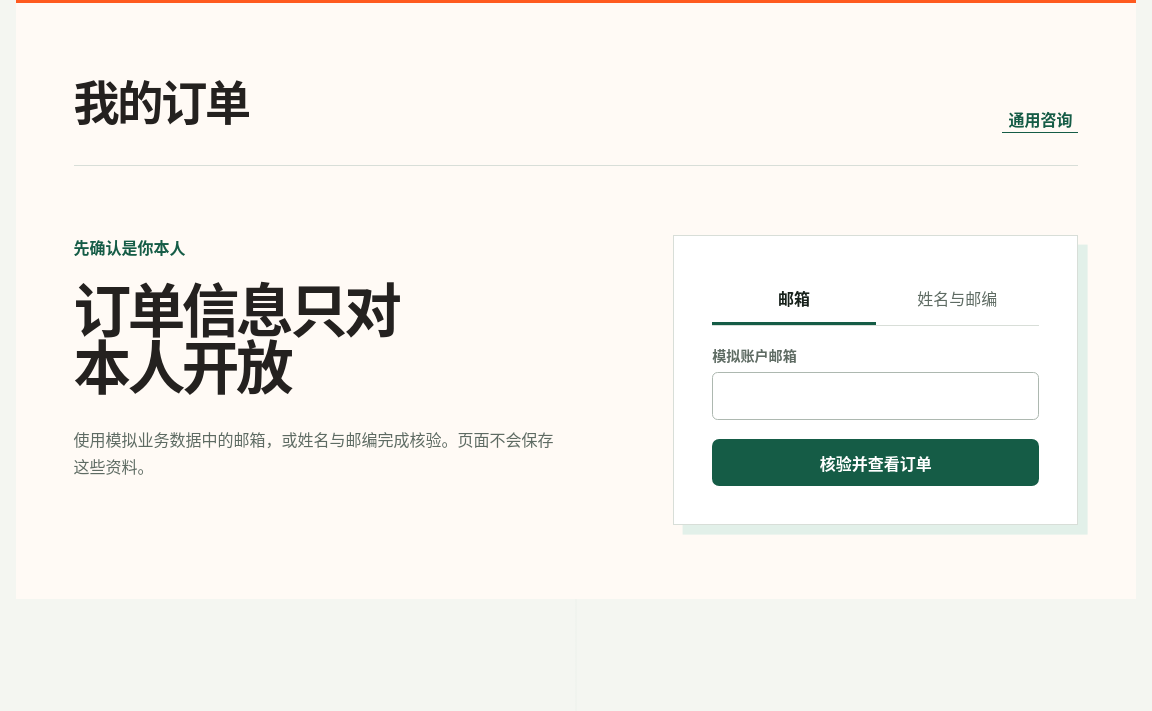
SupportPage conversation and confirmation › renders the server safety response without presenting a write as successful
(page scrolled)
Expected: the heading "订单信息只对本人开放" is shown, [74, 279, 413, 394]
Type "customer@example.invalid" into the field labelled "模拟账户邮箱" at (876, 396), box [712, 372, 1039, 420]
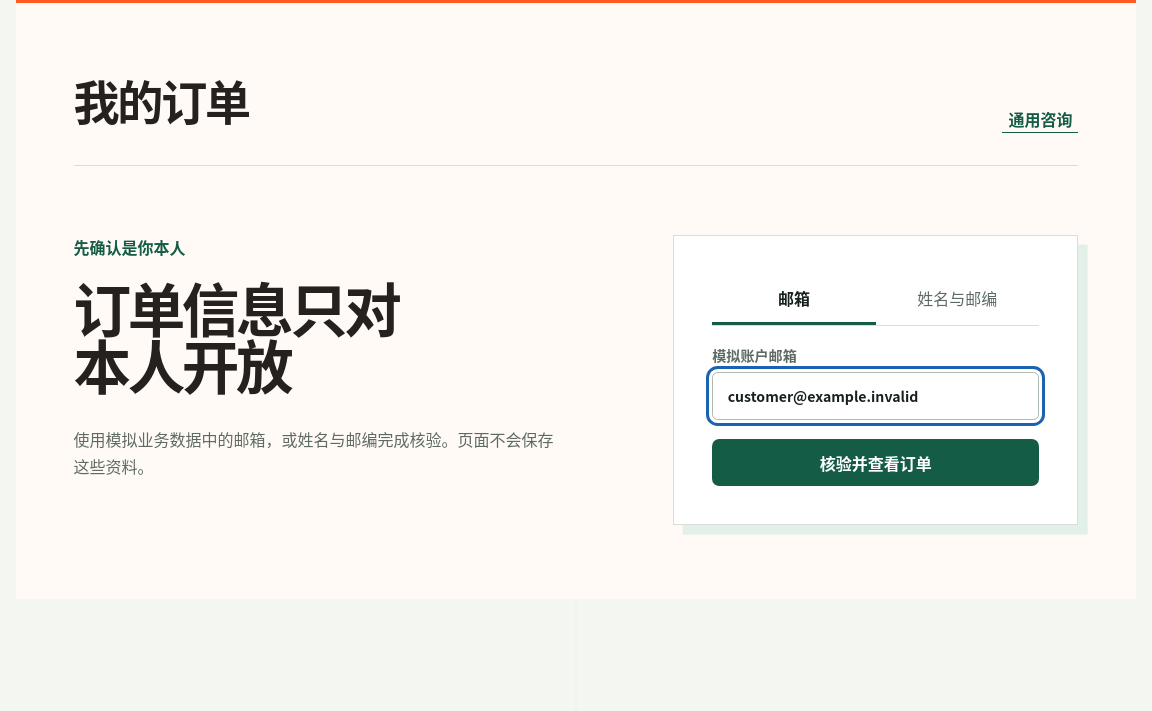
Click the button "核验并查看订单" at (876, 463), box [712, 439, 1039, 486]
(page scrolled)
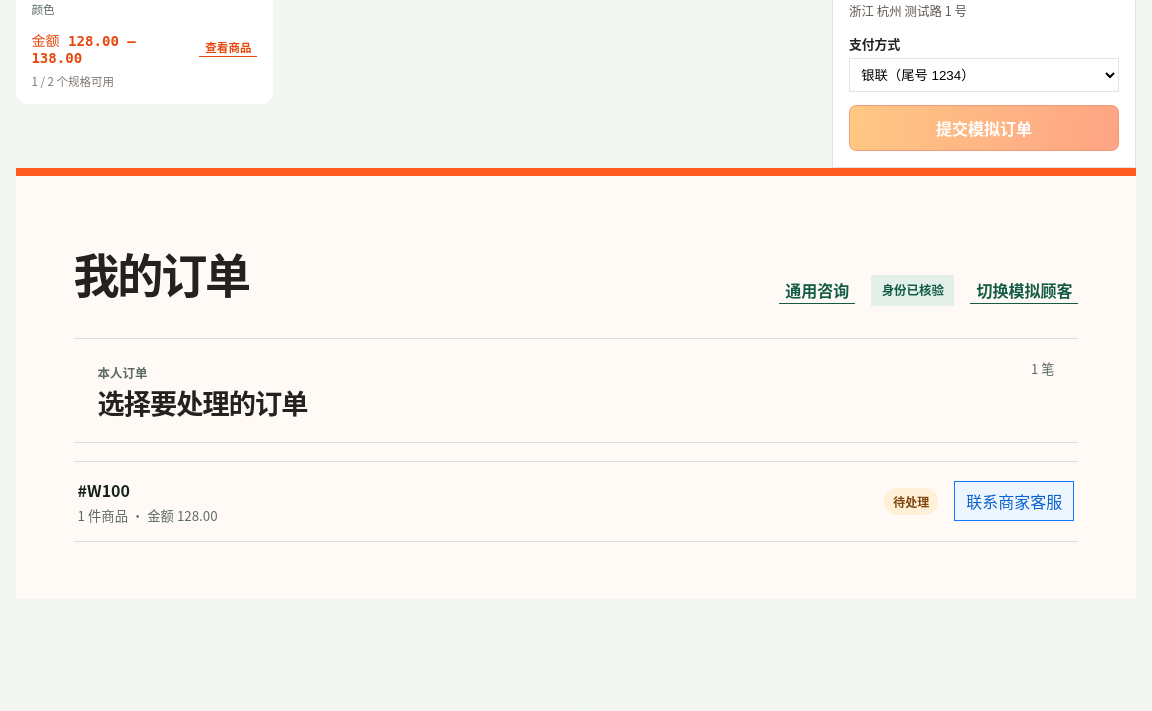
Result: the text "#W100" is shown at [78, 478, 130, 502]
Click the button "联系商家客服" at (1014, 501), box [954, 481, 1074, 521]
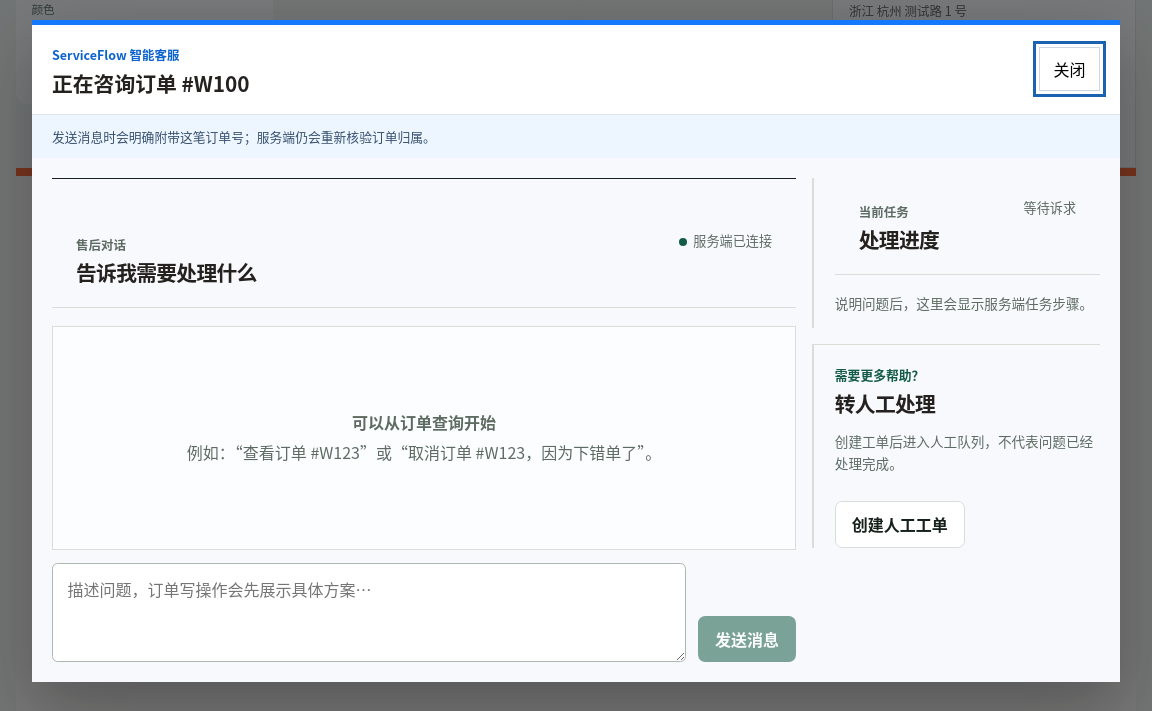
Result: the dialog "正在咨询订单 #W100" is shown
Type "不安全请求" into the text box named "输入售后问题" at (369, 613), box [52, 563, 686, 662]
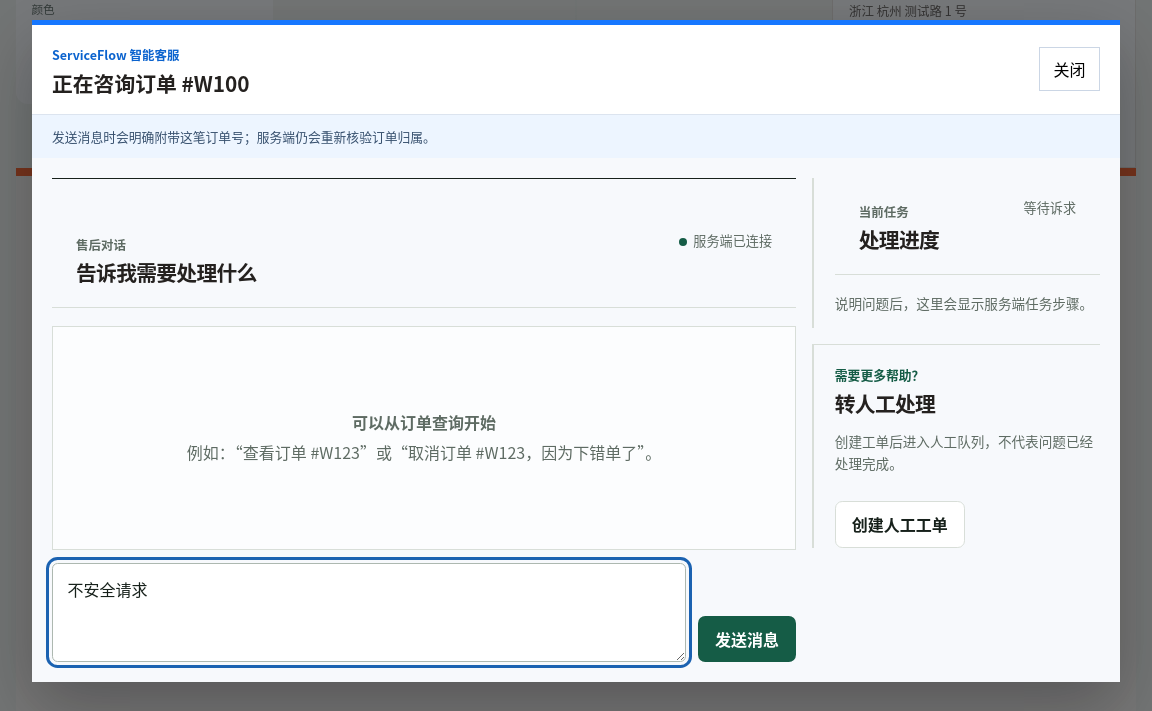
Click the button "发送消息" at (747, 639), box [698, 616, 796, 662]
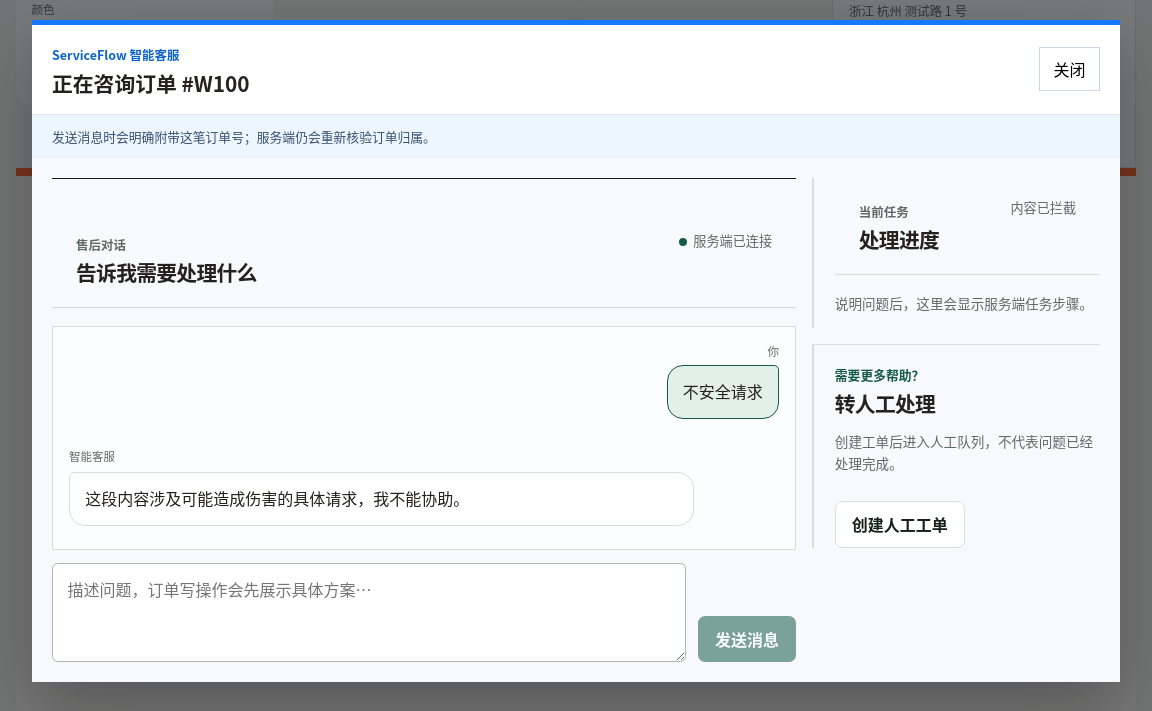
Result: the text "这段内容涉及可能造成伤害的具体请求，我不能协助。" is shown at [69, 472, 694, 526]
